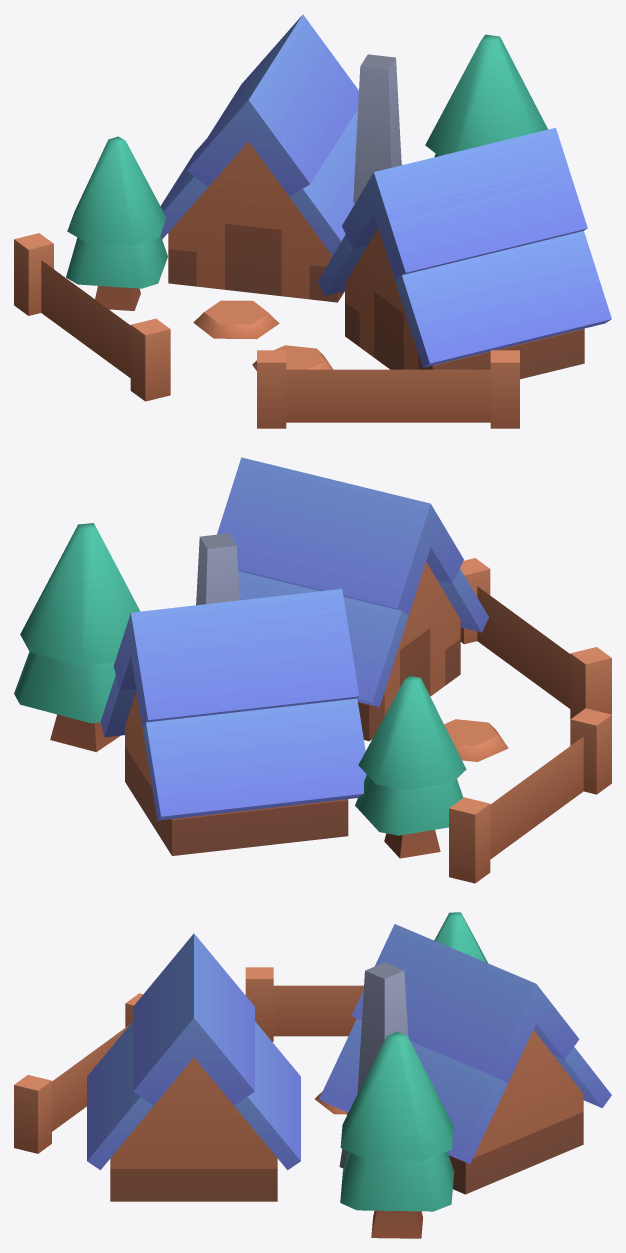
Rendered from village.fbx.
3 views of the same model, one above another, from view 1: azimuth 30°, elevation 25°; view 2: azimuth 150°, elevation 25°; view 3: azimuth 270°, elevation 25° (orthographic). The views are drawn at different scales.
Parts seen in each view (by area): view 1: building_village; view 2: building_village; view 3: building_village.
Part boxes in pixels (x1=…): building_village: x1=14, y1=14, x2=611, y2=428; building_village: x1=14, y1=457, x2=611, y2=883; building_village: x1=14, y1=912, x2=611, y2=1238.
Bounding box in the file's own units: 94.14 × 40 × 107.
